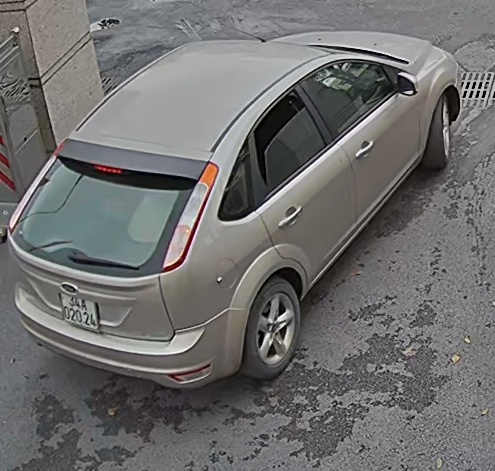vehicle plate: (54, 285, 104, 335)
